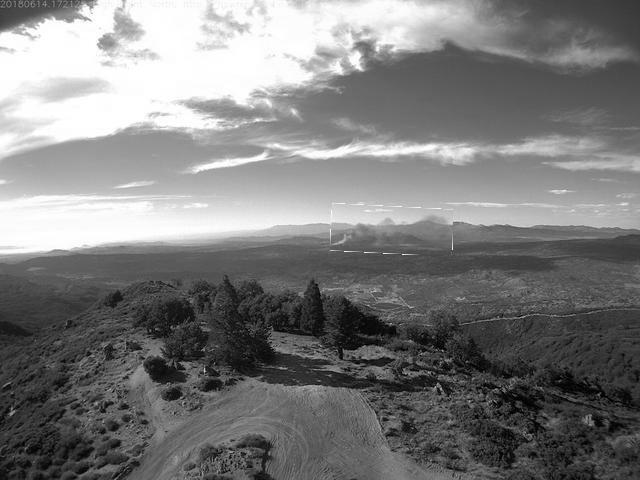smoke: (332, 206, 455, 256)
